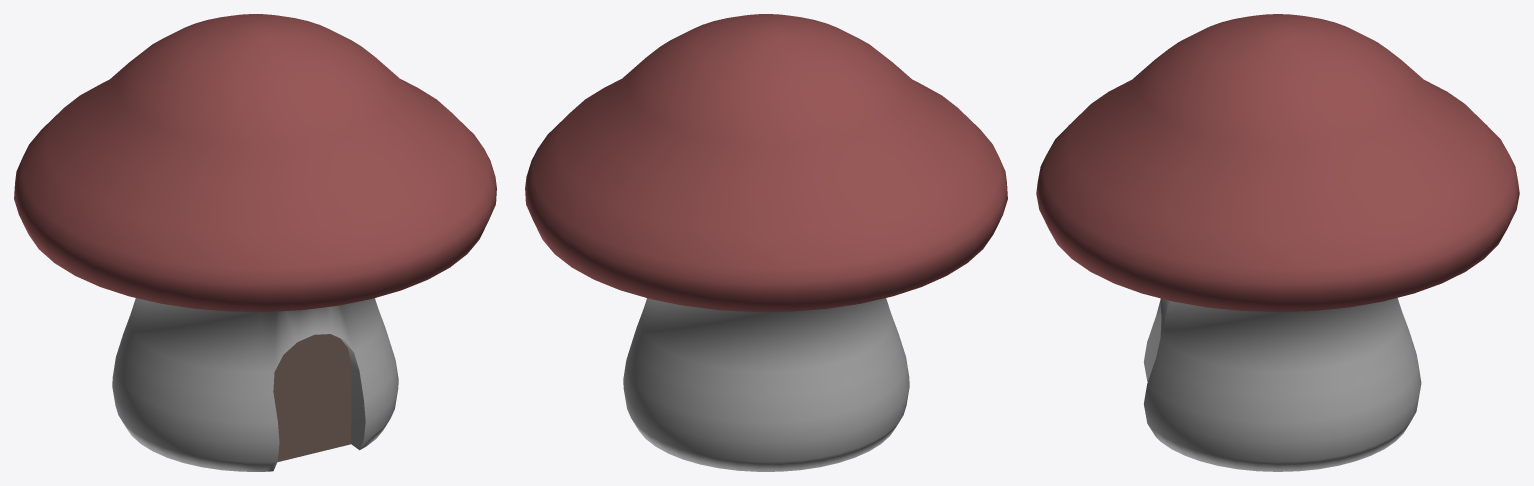
Rendered from Hongo2_Mod.fbx.
3 views of the same model, side by side, from view 1: azimuth 30°, elevation 25°; view 2: azimuth 150°, elevation 25°; view 3: azimuth 270°, elevation 25° (orthographic).
Visible parts, largest first — view 1: Hongo2_Mod; view 2: Hongo2_Mod; view 3: Hongo2_Mod.
Boxes of the visible parts, x1,y1,x2,y2 form: Hongo2_Mod: (14, 14, 496, 471); Hongo2_Mod: (525, 14, 1007, 471); Hongo2_Mod: (1036, 14, 1519, 471).
Size of the model in its own units: 864 by 761 by 864.
